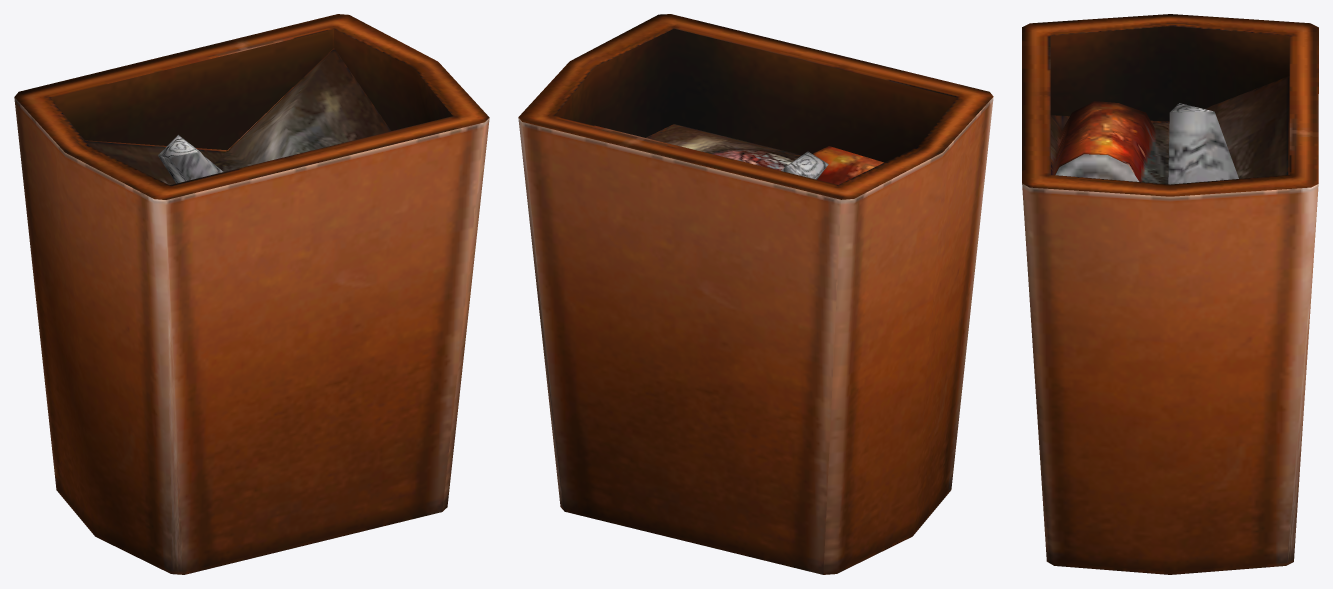
Rendered from trashcan.glb.
3 views of the same model, side by side, from view 1: azimuth 30°, elevation 25°; view 2: azimuth 150°, elevation 25°; view 3: azimuth 270°, elevation 25° (orthographic).
Parts seen in each view (by area): view 1: Box02; view 2: Box02; view 3: Box02.
Part boxes in pixels (x1,y1,x2,y2): Box02: (14,14,489,574); Box02: (518,14,993,574); Box02: (1022,14,1318,574).
Bounding box in the file's own units: 21.4 × 21.45 × 14.69.
Materials: 1 (1 with a texture image).
